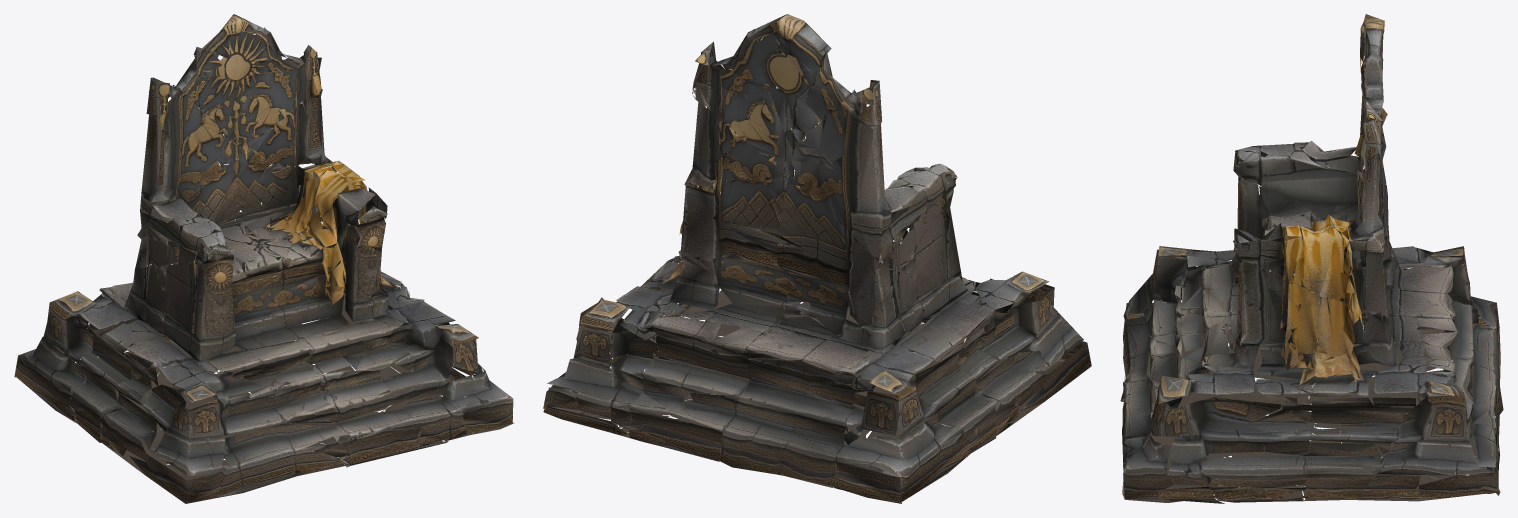
File: KhanThrone.fbx
3 views of the same model, side by side, from view 1: azimuth 30°, elevation 25°; view 2: azimuth 150°, elevation 25°; view 3: azimuth 270°, elevation 25° (orthographic). The views are drawn at different scales.
Visible parts, largest first — view 1: KhanThrone_Body; view 2: KhanThrone_Body; view 3: KhanThrone_Body.
Boxes of the visible parts, x1,y1,x2,y2 form: KhanThrone_Body: (14, 14, 514, 503); KhanThrone_Body: (543, 14, 1091, 503); KhanThrone_Body: (1120, 14, 1503, 503).
Bounding box in the file's own units: 0.9557 × 1 × 0.8715.
1 material, 1 textured.
